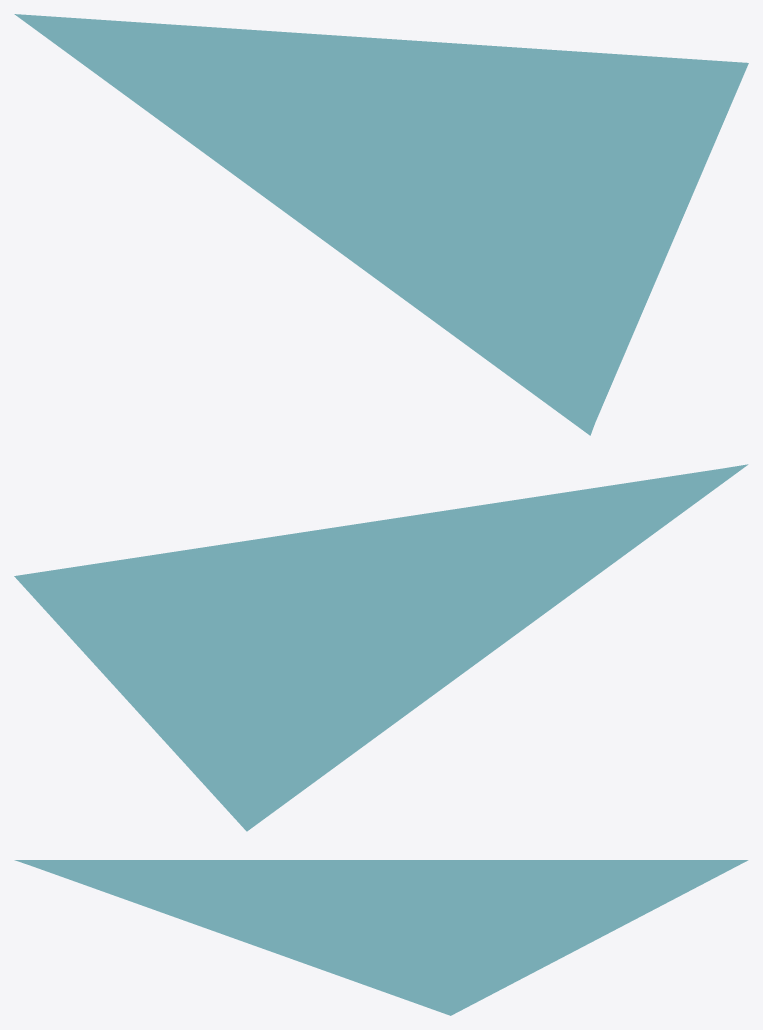
The picture shows the model from 3 angles, top to bottom: view 1: azimuth 30°, elevation 25°; view 2: azimuth 150°, elevation 25°; view 3: azimuth 270°, elevation 25°; orthographic projection. The views are drawn at different scales.
Parts seen in each view (by area): view 1: city; view 2: city; view 3: city.
Part boxes in pixels (<box>): city: <box>14,14,748,435</box>; city: <box>14,464,748,831</box>; city: <box>14,860,748,1015</box>.
Bounding box in the file's own units: 32.87 × 0 × 65.5.
